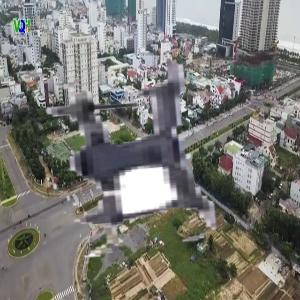drone: (13, 37, 249, 273)
